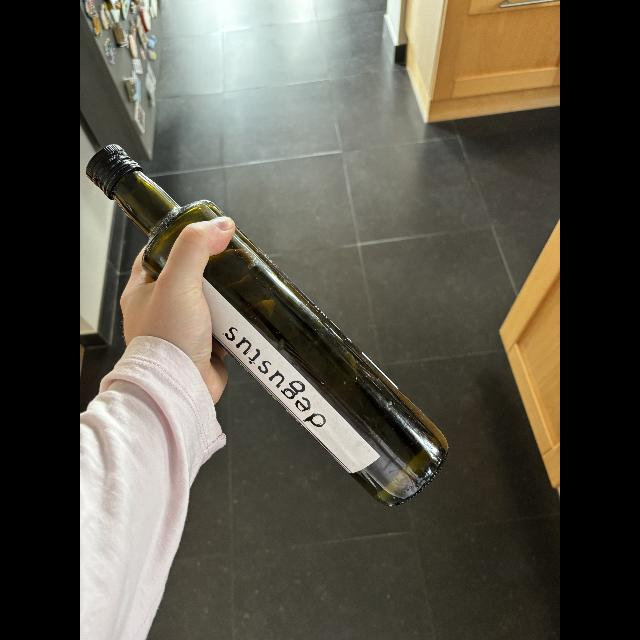Glass: (82, 142, 454, 506)
